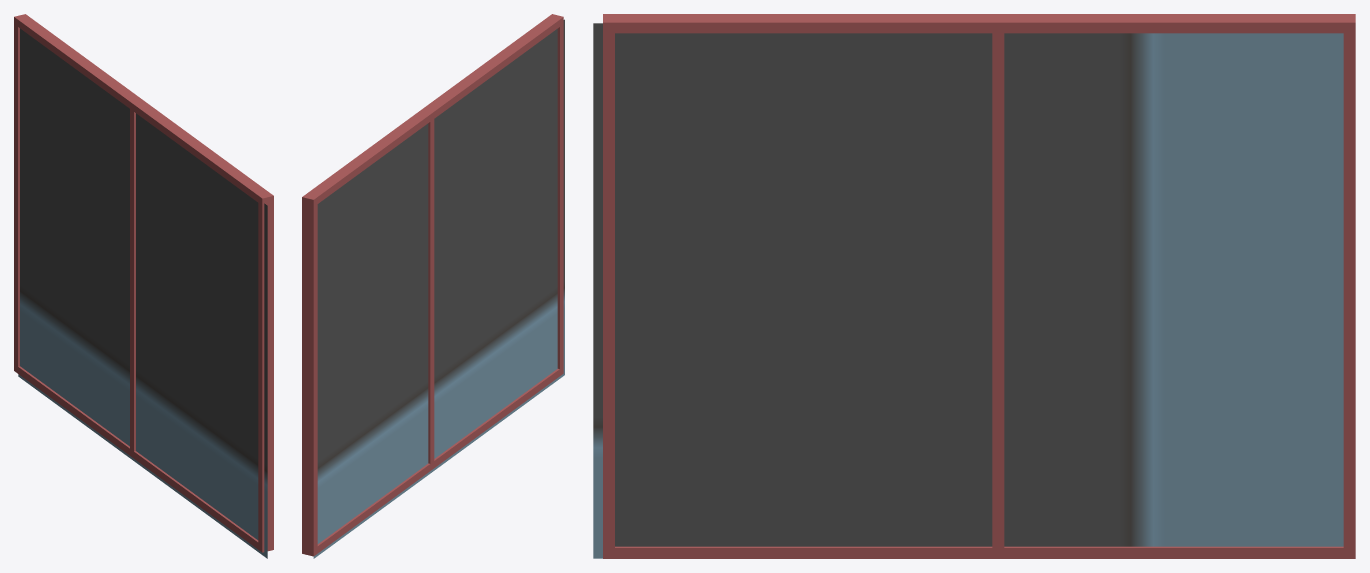
File: Yogaroom_window.fbx
3 views of the same model, side by side, from view 1: azimuth 30°, elevation 25°; view 2: azimuth 150°, elevation 25°; view 3: azimuth 270°, elevation 25° (orthographic). The views are drawn at different scales.
Visible parts, largest first — view 1: Yogaroom_window; view 2: Yogaroom_window; view 3: Yogaroom_window.
Part boxes in pixels (bbox=[...]): Yogaroom_window: bbox=[14, 14, 273, 558]; Yogaroom_window: bbox=[302, 14, 564, 558]; Yogaroom_window: bbox=[593, 14, 1355, 558].
Bounding box in the file's own units: 11.85 × 353 × 448.
